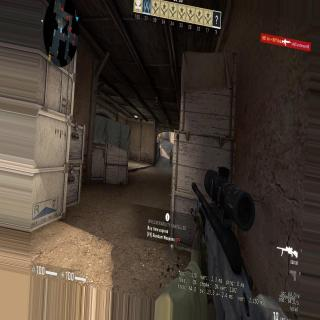T-Body: (170, 149, 172, 166)
T-Head: (170, 148, 172, 152)
